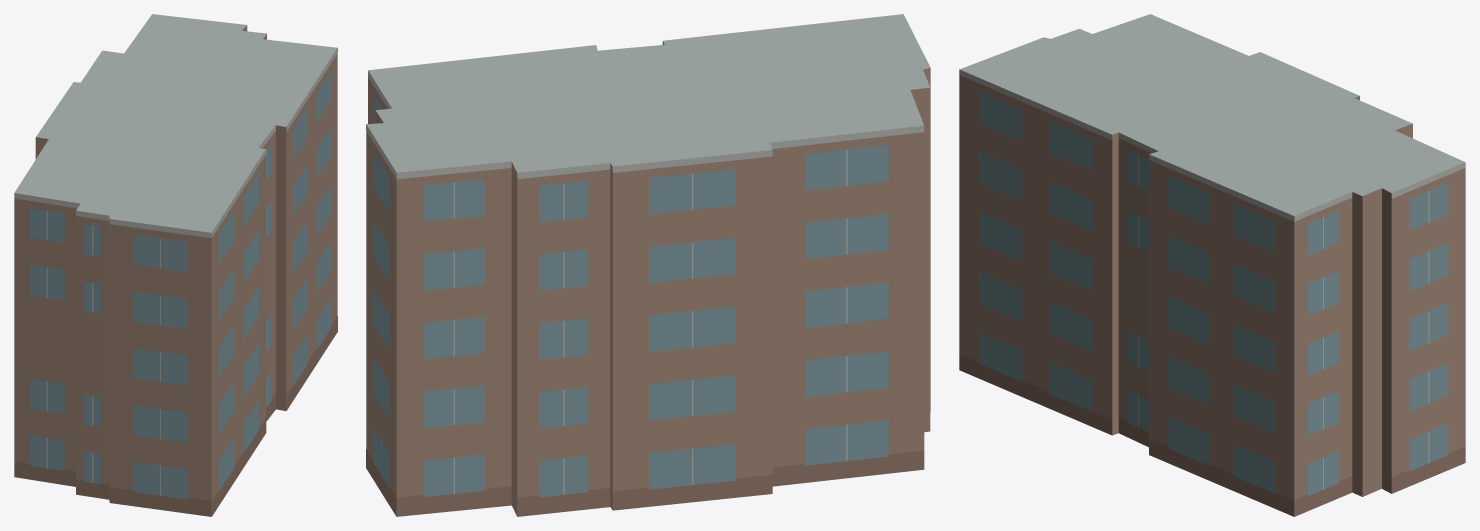
Rendered from survey-upis-32720888.glb.
3 renders of one model, left to right at view 1: azimuth 30°, elevation 25°; view 2: azimuth 150°, elevation 25°; view 3: azimuth 270°, elevation 25°, orthographic. The views are drawn at different scales.
Visible parts, largest first — view 1: survey-upis-32720888.tmp; view 2: survey-upis-32720888.tmp; view 3: survey-upis-32720888.tmp.
Part boxes in pixels (x1=…): survey-upis-32720888.tmp: x1=14, y1=14, x2=337, y2=516; survey-upis-32720888.tmp: x1=366, y1=14, x2=930, y2=516; survey-upis-32720888.tmp: x1=959, y1=14, x2=1465, y2=516.
Size of the model in its own units: 18.68 by 12.95 by 19.76.
